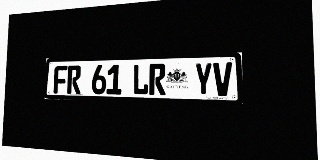1: (106, 64, 122, 94)
6: (91, 65, 106, 94)
F: (53, 66, 67, 94)
L: (132, 64, 149, 95)
R: (149, 63, 166, 95), (67, 65, 81, 94)
V: (213, 62, 232, 96)
Y: (194, 62, 213, 96)
